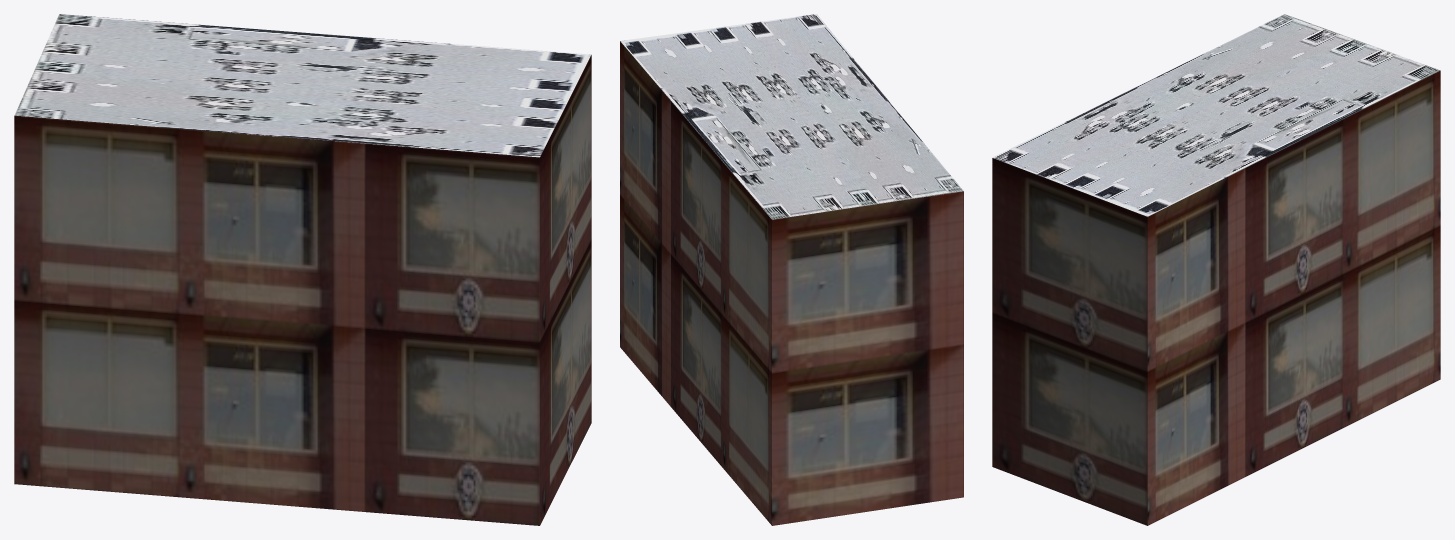
File: ResTex__1613.fbx
3 renders of one model, left to right at view 1: azimuth 30°, elevation 25°; view 2: azimuth 150°, elevation 25°; view 3: azimuth 270°, elevation 25°, orthographic. The views are drawn at different scales.
Visible parts, largest first — view 1: CityEngineMaterial_13_m, CityEngineMaterial_4_m; view 2: CityEngineMaterial_13_m, CityEngineMaterial_4_m; view 3: CityEngineMaterial_13_m, CityEngineMaterial_4_m.
Part boxes in pixels (x1,y1,x2,y2): CityEngineMaterial_13_m: (14, 55, 591, 525); CityEngineMaterial_4_m: (14, 14, 590, 157); CityEngineMaterial_13_m: (620, 41, 963, 525); CityEngineMaterial_4_m: (620, 14, 963, 219); CityEngineMaterial_13_m: (992, 70, 1440, 525); CityEngineMaterial_4_m: (992, 14, 1439, 216).
Size of the model in its own units: 8.44 by 6 by 7.88.
Materials: 2 (2 with a texture image).
